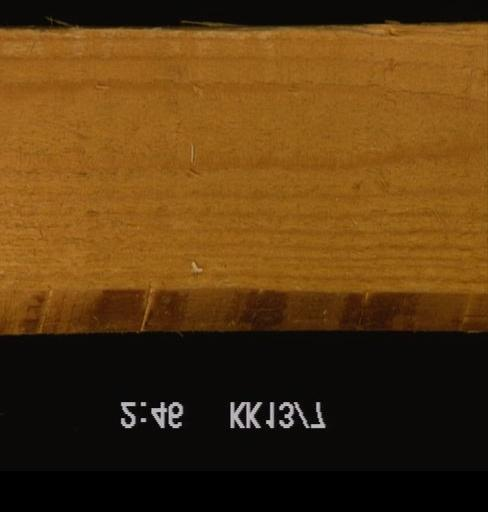wave: (0, 289, 486, 330)
